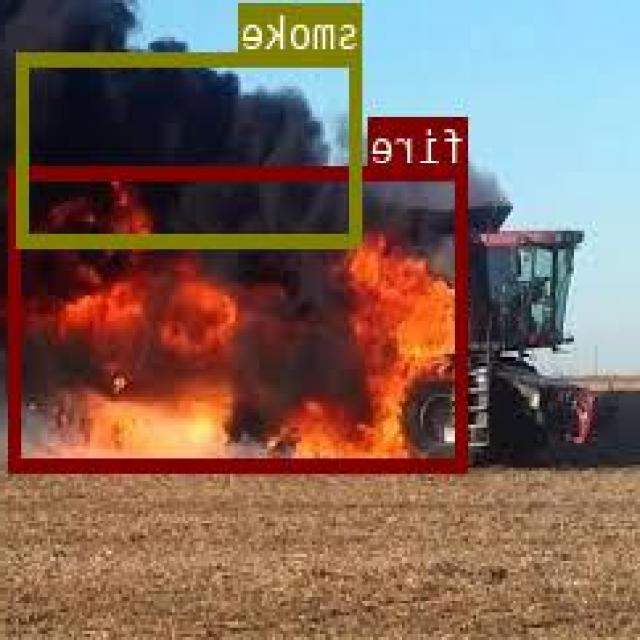fire: (12, 164, 471, 468)
smoke: (21, 51, 363, 245)
